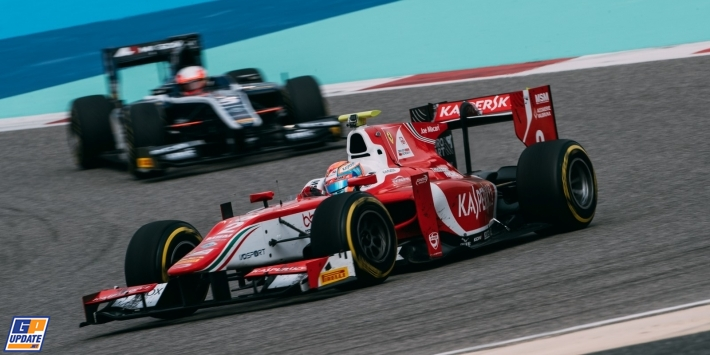race car: (75, 83, 601, 331), (68, 31, 344, 185)
